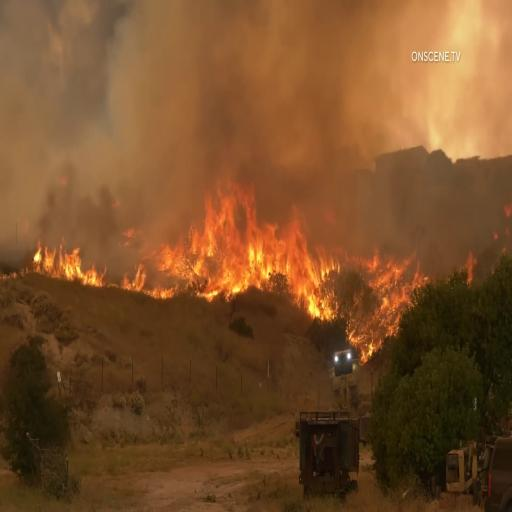fire: (161, 168, 259, 290), (352, 253, 429, 352), (297, 244, 357, 328), (258, 211, 313, 300), (26, 224, 85, 293), (114, 258, 150, 294)
smoke: (255, 139, 362, 214), (203, 5, 250, 174), (44, 176, 115, 243)
